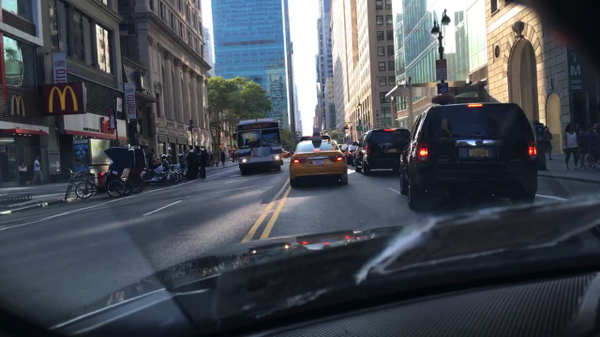bike: (63, 145, 137, 203), (76, 147, 147, 195)
bus: (234, 116, 284, 174)
car: (400, 102, 536, 211), (288, 126, 348, 191), (352, 128, 410, 176), (342, 145, 357, 162), (338, 144, 346, 151), (282, 150, 289, 157)
motor: (141, 151, 180, 186), (166, 152, 181, 184)
person: (562, 122, 579, 172), (574, 125, 586, 171), (30, 155, 46, 186), (585, 124, 596, 169), (185, 148, 198, 181), (541, 127, 552, 162), (20, 155, 30, 188), (198, 147, 206, 179), (590, 122, 598, 141), (207, 149, 214, 169), (219, 150, 226, 166), (230, 151, 235, 164)
rider: (148, 152, 159, 170)
traffic sign: (433, 59, 447, 80), (108, 108, 115, 130), (437, 81, 447, 94)
